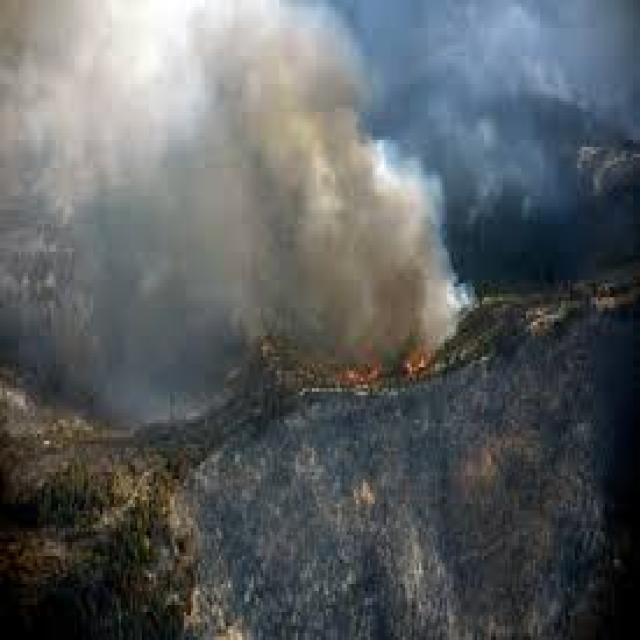Fire: (337, 348, 432, 386)
Smoke: (225, 49, 460, 337), (11, 13, 202, 334)
